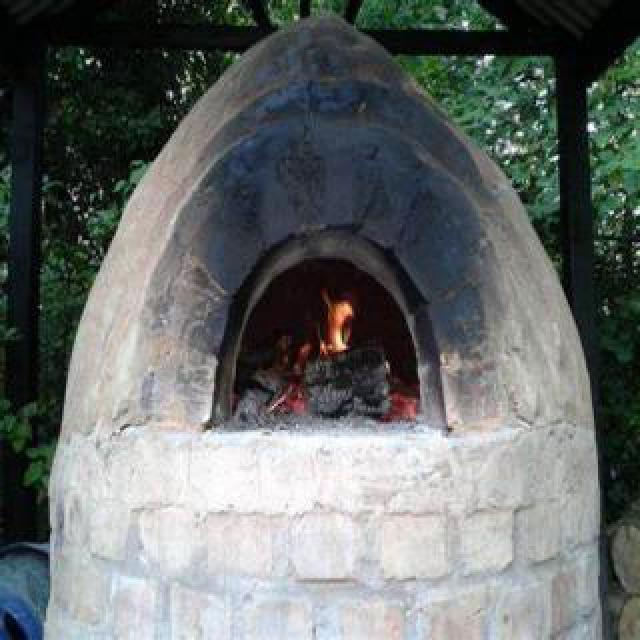Fire: (304, 274, 364, 398)
